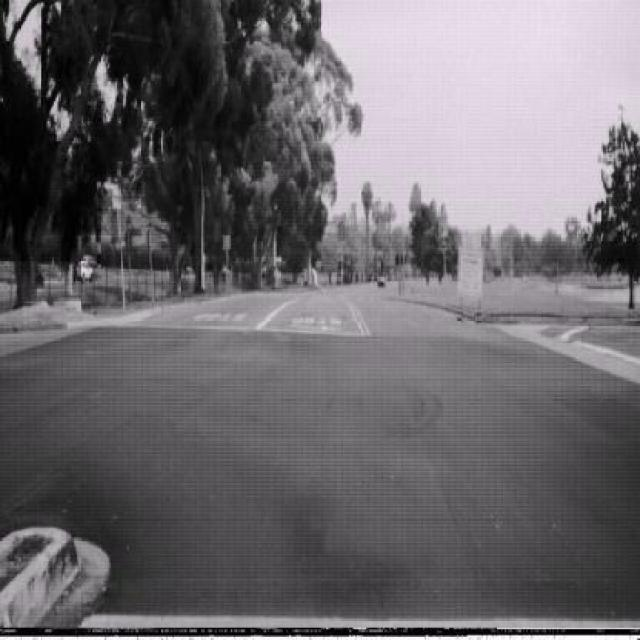speedLimit30: (438, 212, 449, 238)
